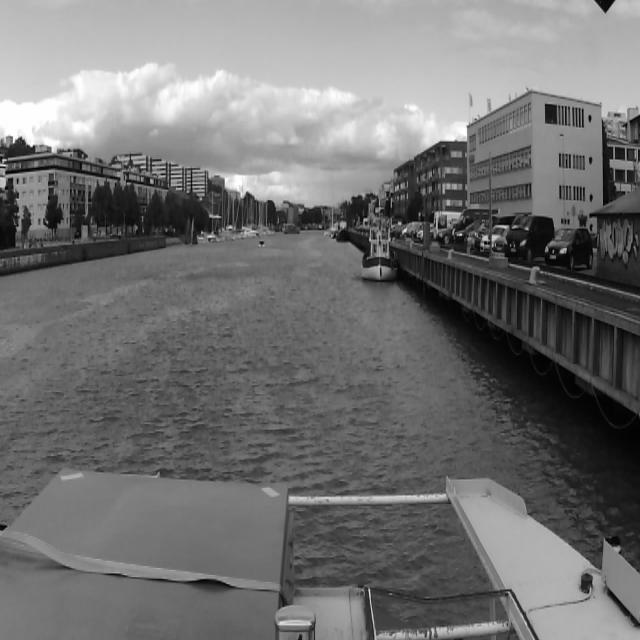ship: (361, 190, 397, 283), (283, 222, 302, 236), (259, 238, 265, 248)
